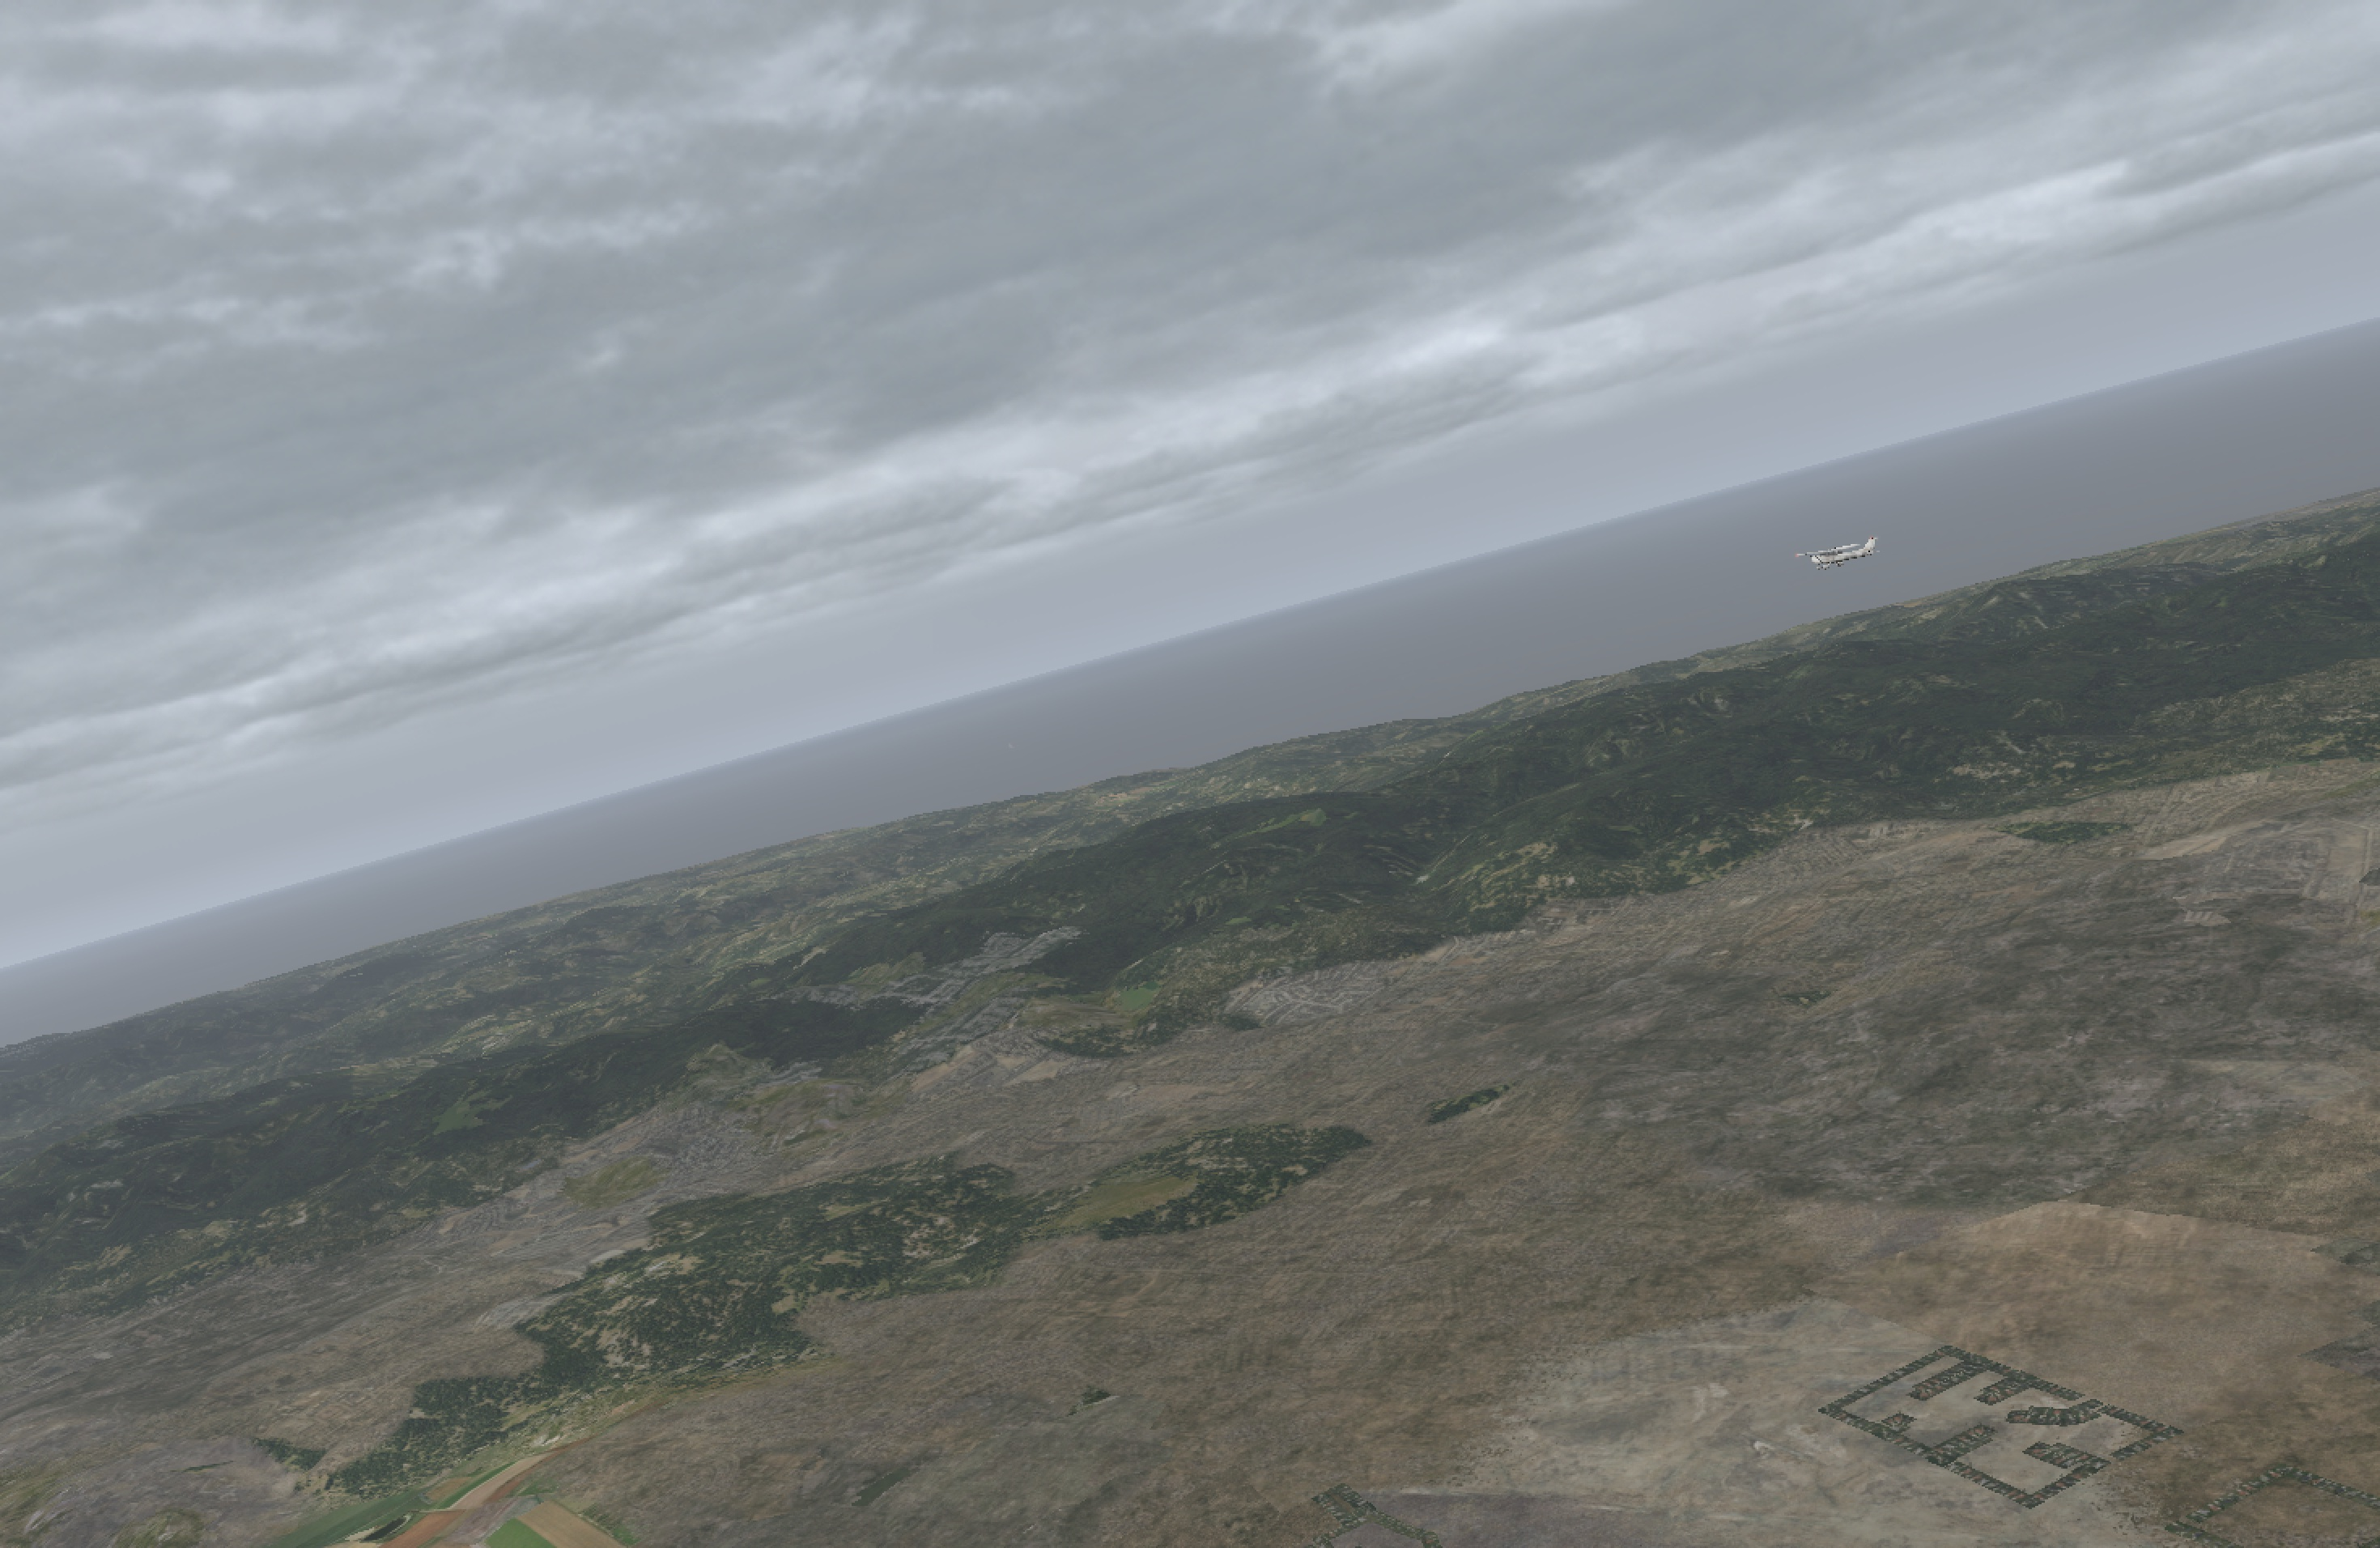aircraft: (1794, 543, 1865, 569)
